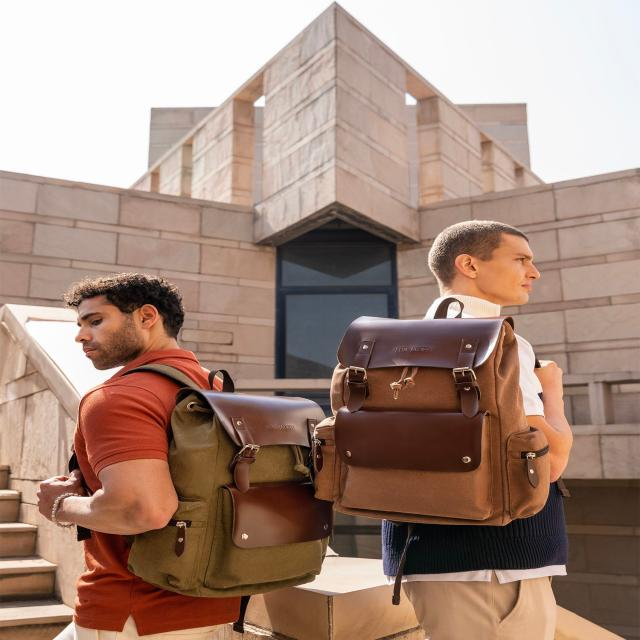backpack: (69, 362, 335, 600), (310, 297, 553, 528)
